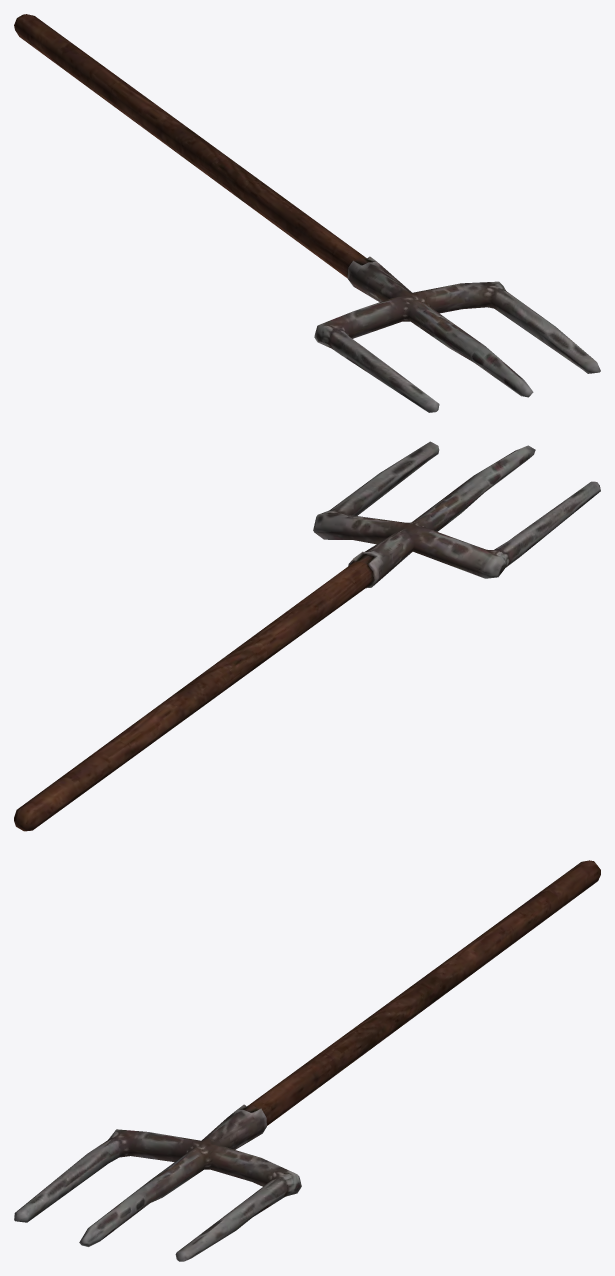
File: pitchfork.projectile.glb
3 renders of one model, top to bottom at view 1: azimuth 30°, elevation 25°; view 2: azimuth 150°, elevation 25°; view 3: azimuth 330°, elevation 25°, orthographic.
Visible parts, largest first — view 1: Pitchfork_LOD0; view 2: Pitchfork_LOD0; view 3: Pitchfork_LOD0.
Boxes of the visible parts, x1=… form: Pitchfork_LOD0: x1=14, y1=14, x2=600, y2=412; Pitchfork_LOD0: x1=14, y1=441, x2=600, y2=831; Pitchfork_LOD0: x1=14, y1=860, x2=600, y2=1261.
Bounding box in the file's own units: 0.38 × 0.0691 × 1.8.
1 material, 1 textured.
